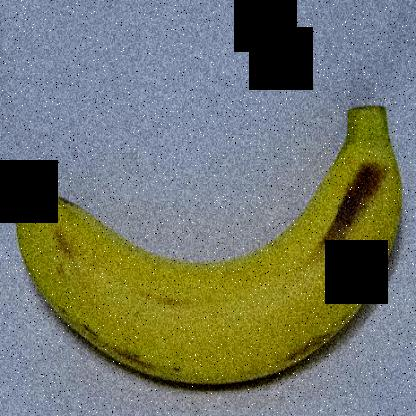freshripe: (6, 89, 410, 408)
